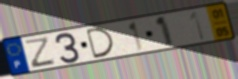1: (155, 15, 176, 48), (127, 19, 144, 53), (189, 11, 206, 40)
3: (53, 31, 80, 65)
D: (84, 26, 116, 60)
Z: (25, 35, 57, 70)
